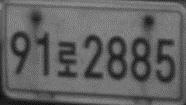1: (34, 31, 51, 77)
2: (82, 33, 104, 81)
5: (155, 37, 176, 83)
8: (129, 35, 152, 83), (106, 34, 127, 80)
9: (8, 29, 31, 75)
로: (55, 39, 79, 80)
